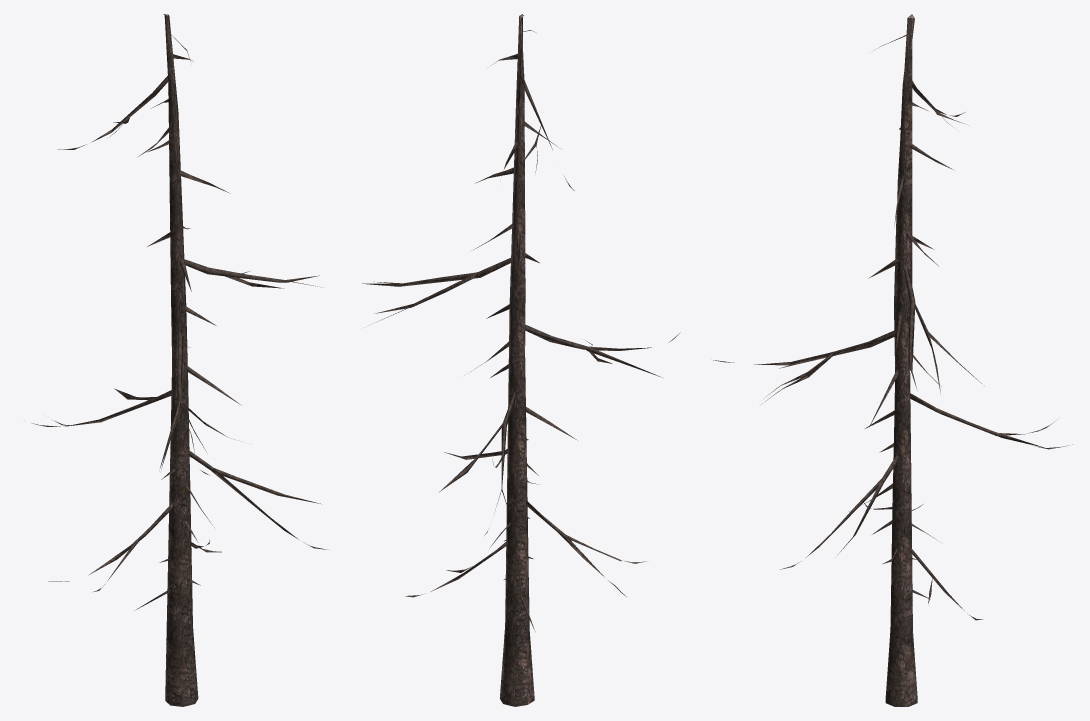
The model's file is dead_conifer_0_lod1.glb.
3 views of the same model, side by side, from view 1: azimuth 30°, elevation 25°; view 2: azimuth 150°, elevation 25°; view 3: azimuth 270°, elevation 25° (orthographic).
Parts seen in each view (by area): view 1: dead_conifer_0_lod1; view 2: dead_conifer_0_lod1; view 3: dead_conifer_0_lod1.
Part boxes in pixels (<box>): dead_conifer_0_lod1: <box>31,14,328,706</box>; dead_conifer_0_lod1: <box>362,14,680,706</box>; dead_conifer_0_lod1: <box>713,14,1072,706</box>.
Size of the model in its own units: 6.66 by 16.1 by 7.85.
Materials: 1 (1 with a texture image).
